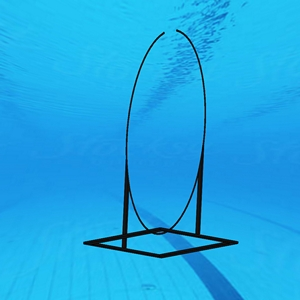circle: (81, 27, 241, 260)
